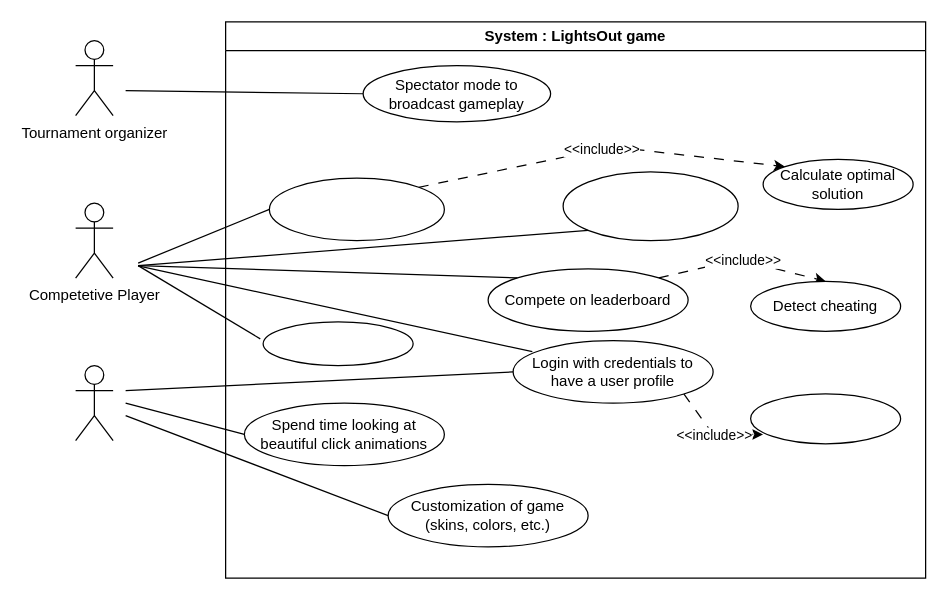
The diagram is 948 pixels wide and 600 high, and some of its shapes have lost their labels. Each missing label, with the centre of its shape:
Casual Player: the point at 93,402
Develop new solving algorithms: the point at 356,209
More complex grids to solve and compete on: the point at 650,206
Practice mode: the point at 337,343
Verify and match credentials: the point at 825,418
